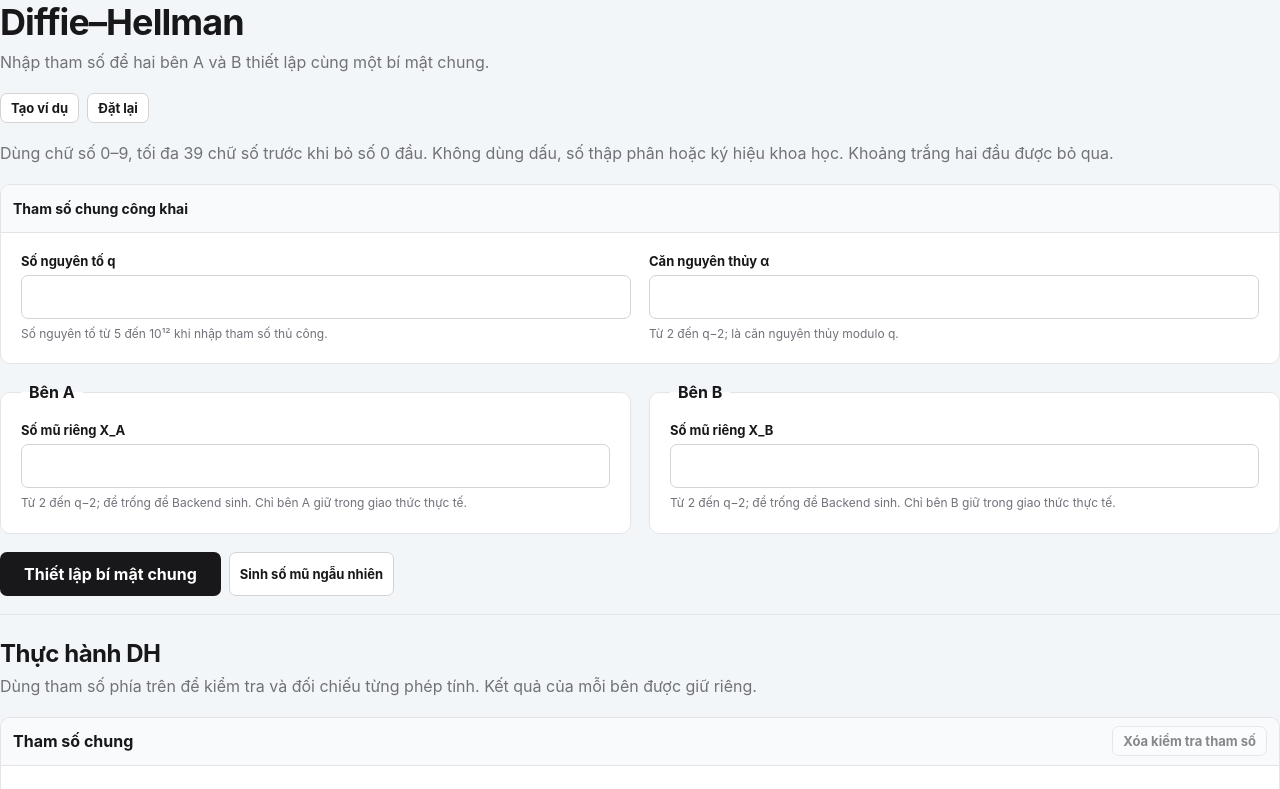
Test: Diffie–Hellman form › reports bad q , describes it and focuses the field
Click the button "Tạo ví dụ": x=40, y=108 [0,93,79,123]
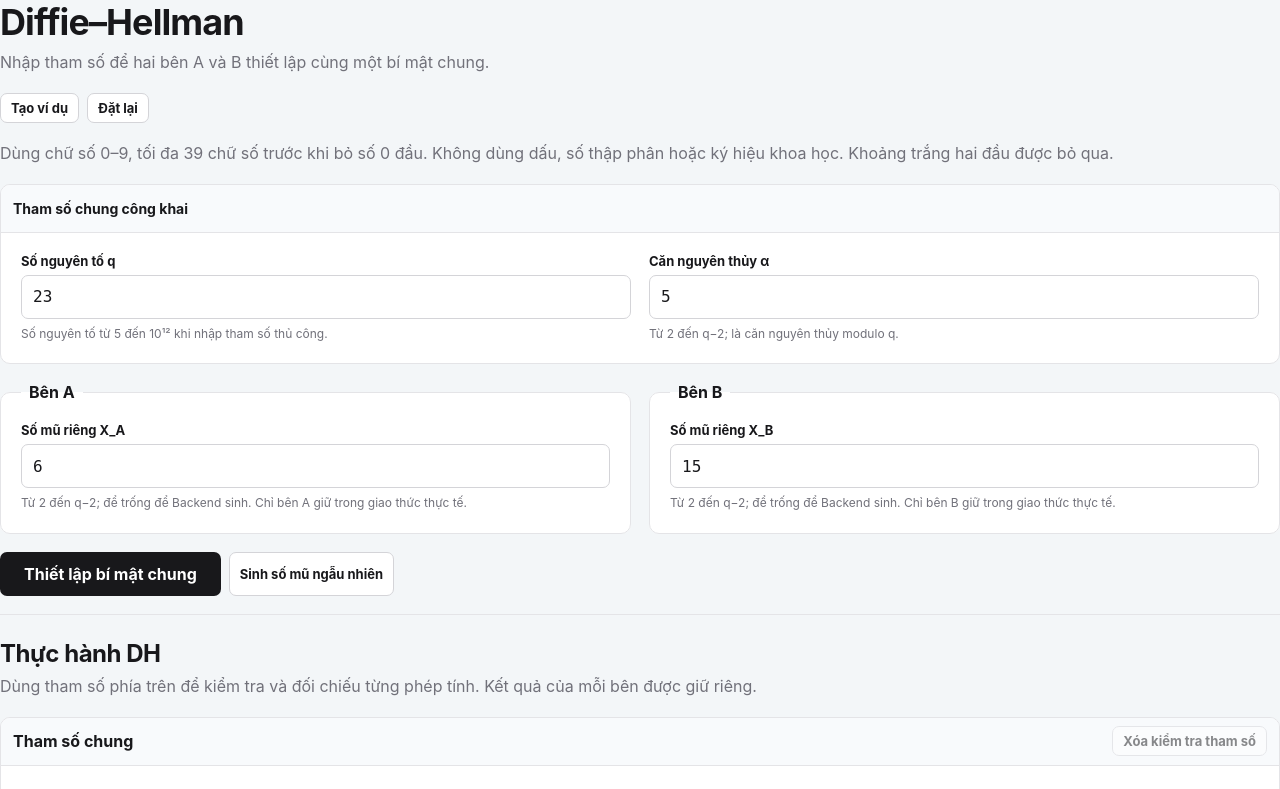
Clear the field labelled "Số nguyên tố q": x=326, y=297 [21,275,631,319]
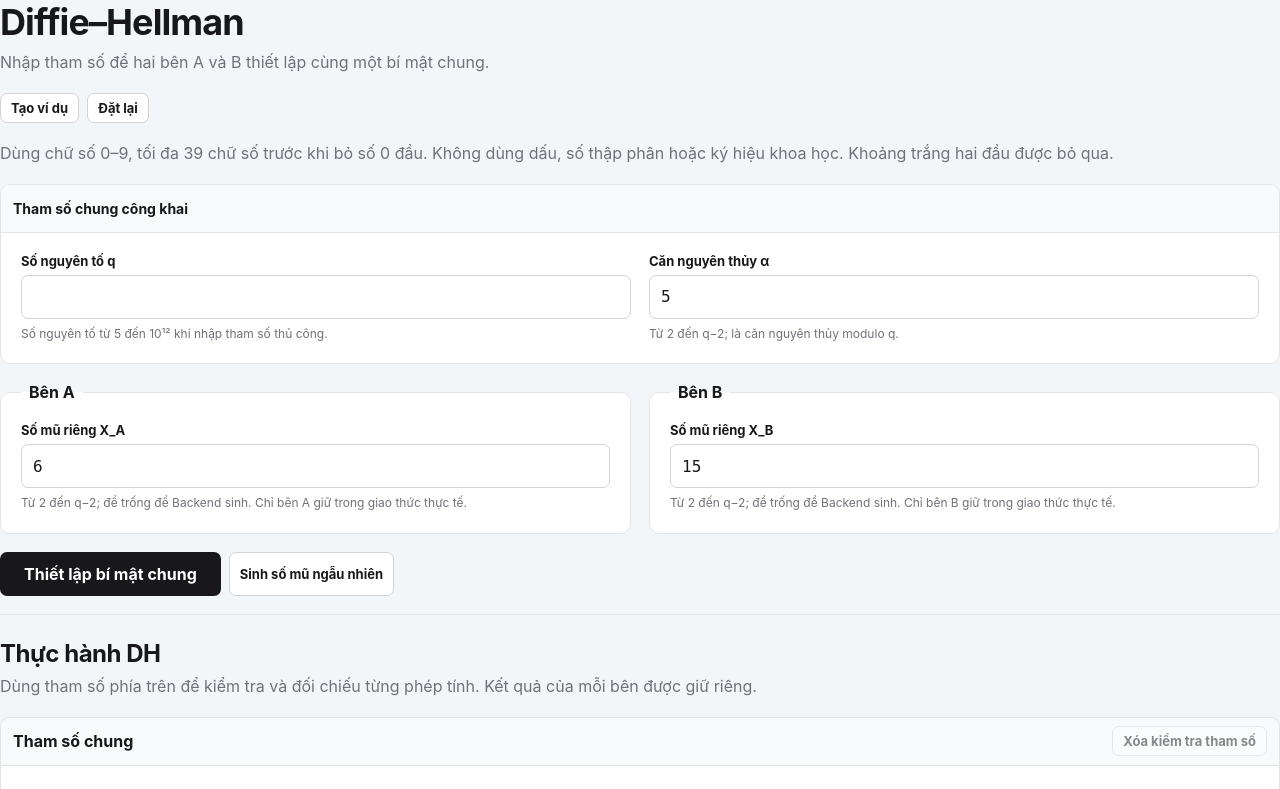
Click the button "Thiết lập bí mật chung": x=110, y=574 [0,552,221,596]
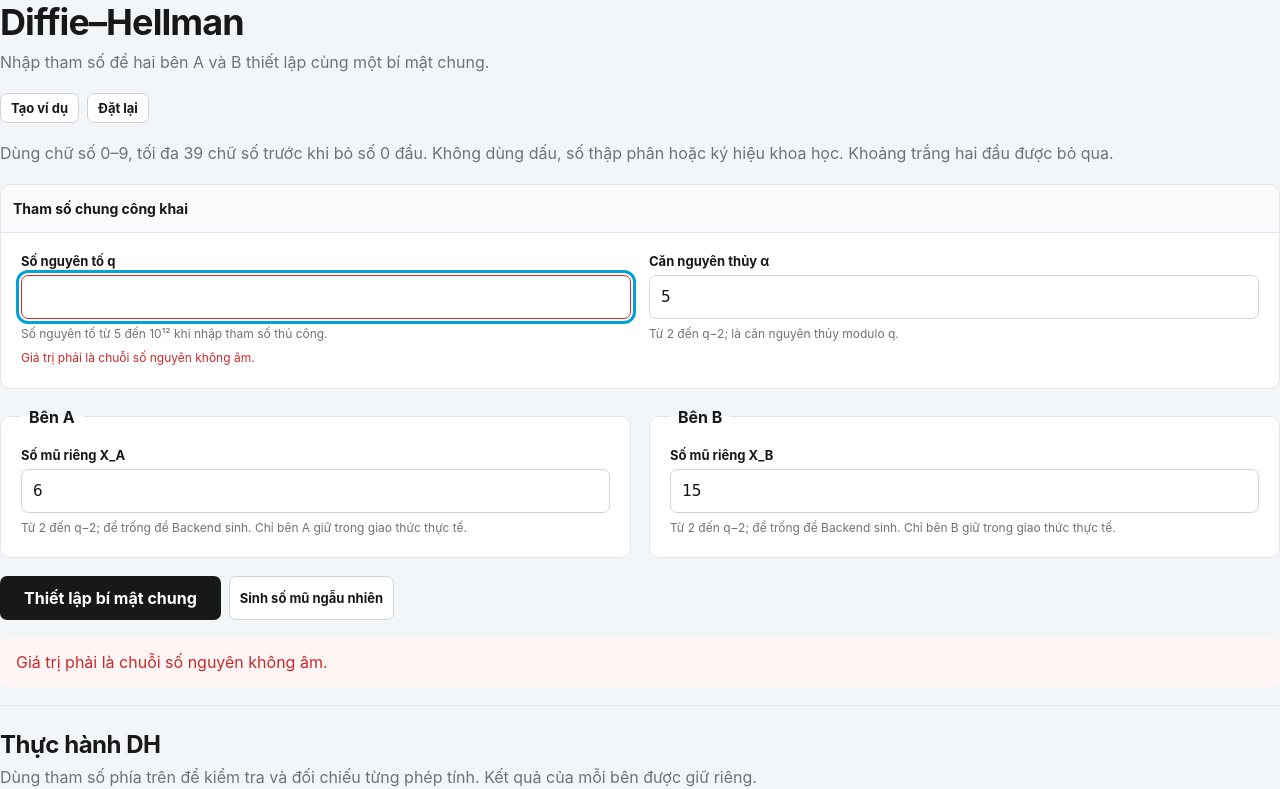
Expected: the message shows "số nguyên không âm", [16,652,328,672]
In the field labelled "Số nguyên tố q": x=326, y=297 [21,275,631,319], type "23"
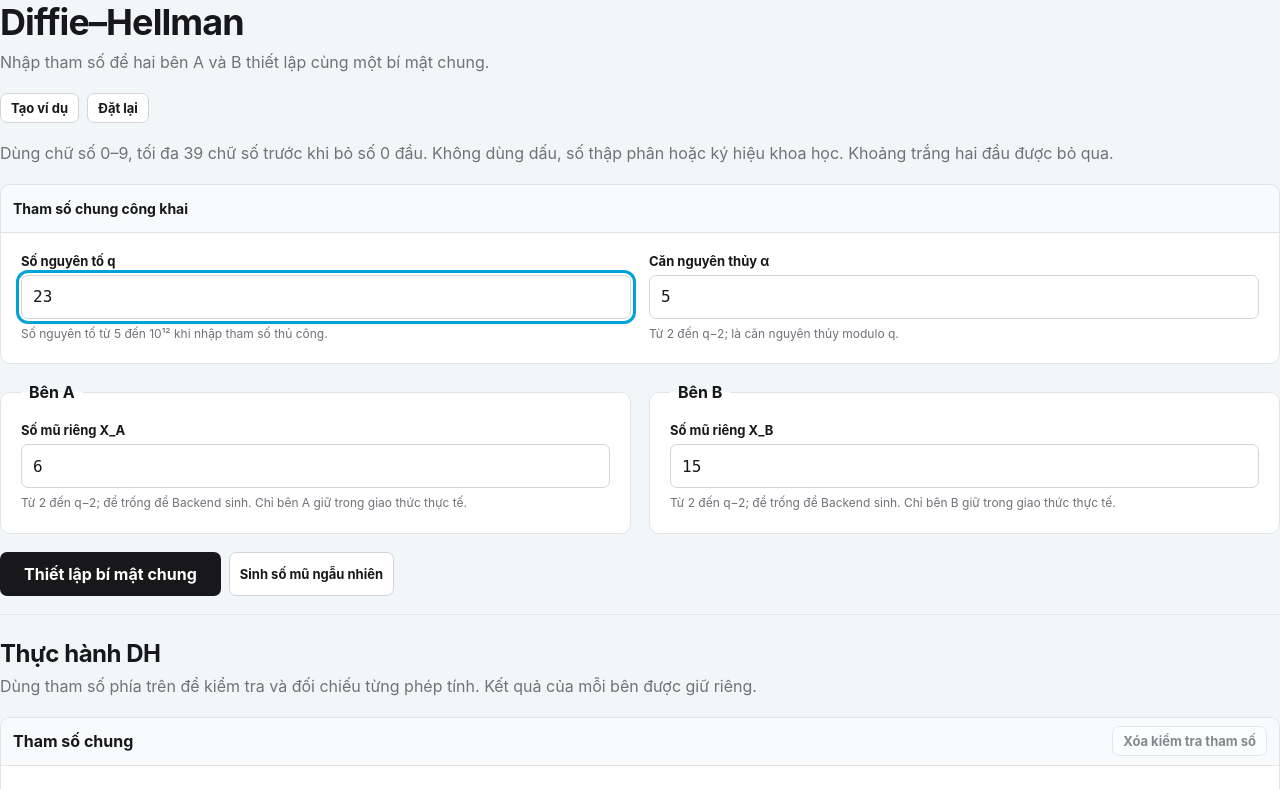
Expected: the message "Giá trị phải là chuỗi số nguyên không âm." is gone
